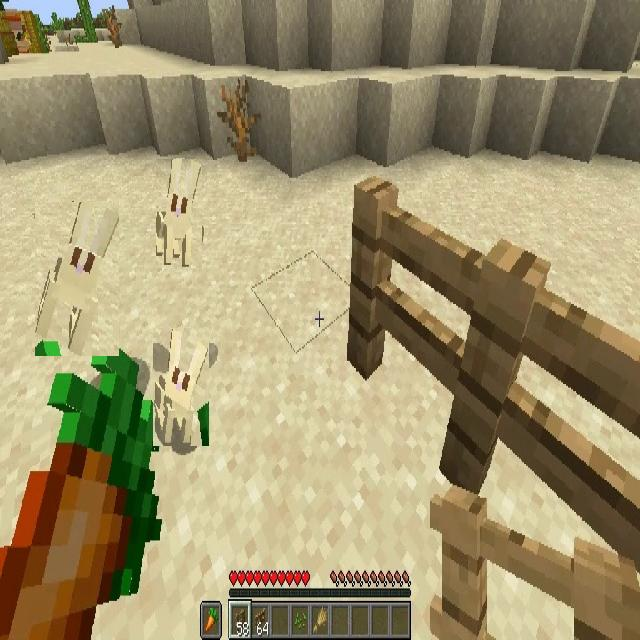rabbit: (35, 202, 119, 356), (153, 328, 209, 446), (156, 159, 202, 268)
